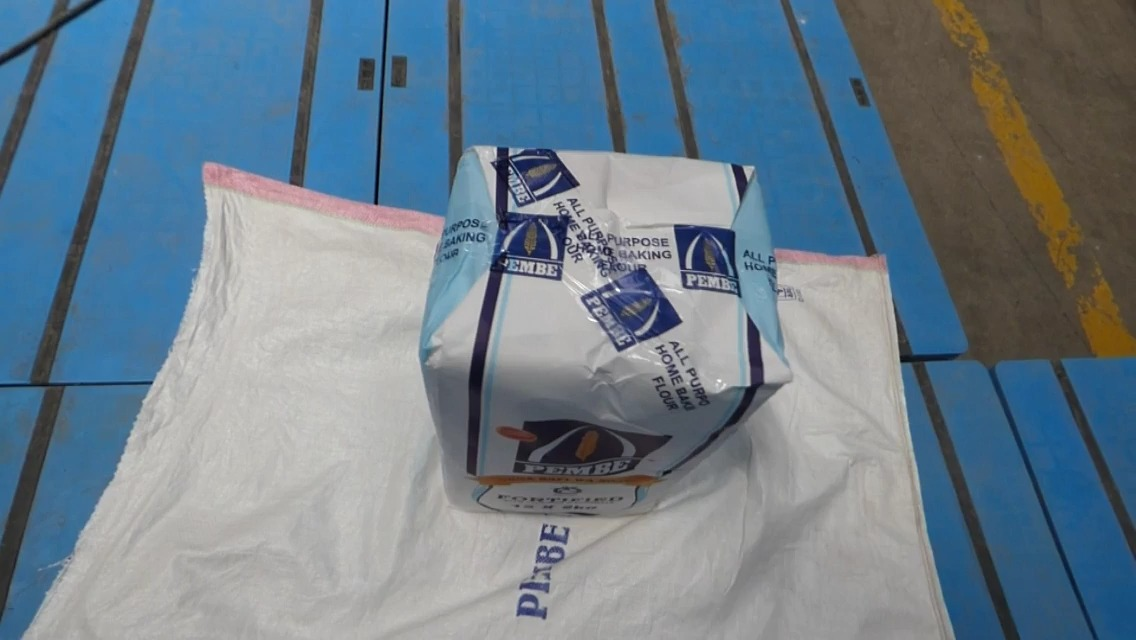wheat_flour_blue_label: (418, 151, 788, 509)
